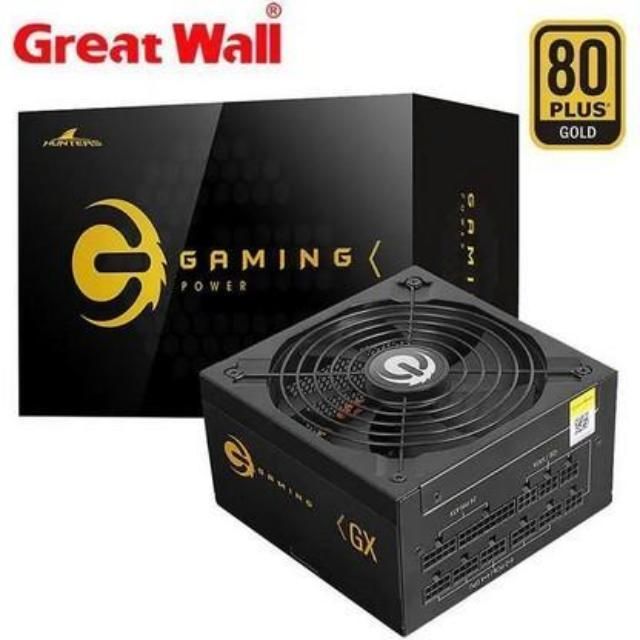PSU: (183, 260, 640, 640)
